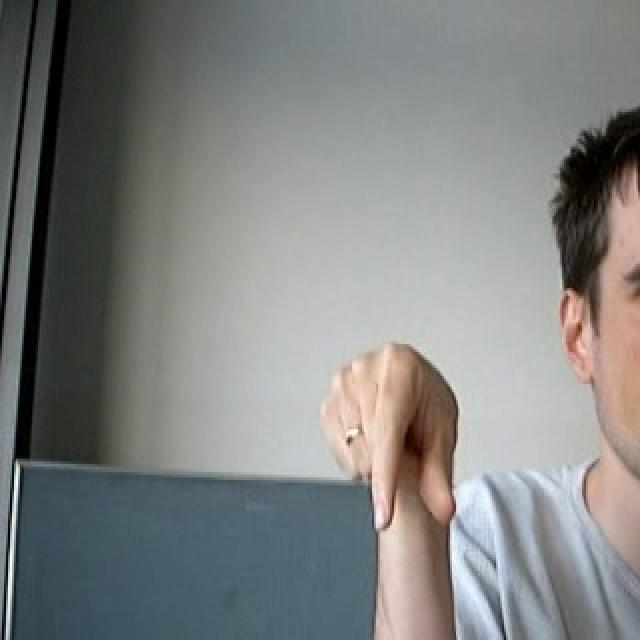Q: (312, 337, 479, 551)
